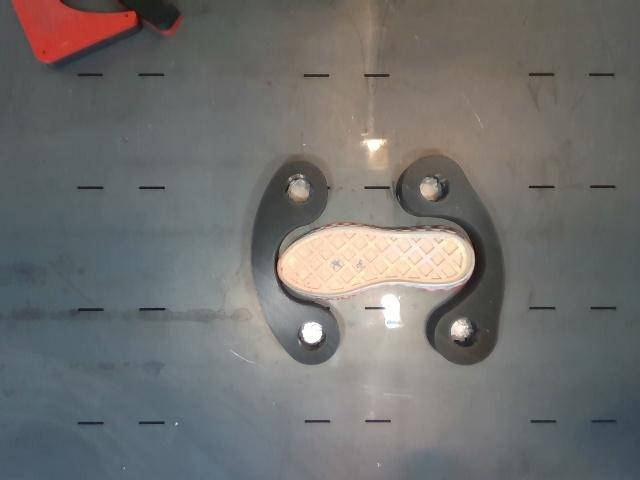shoes: (278, 228, 473, 295)
